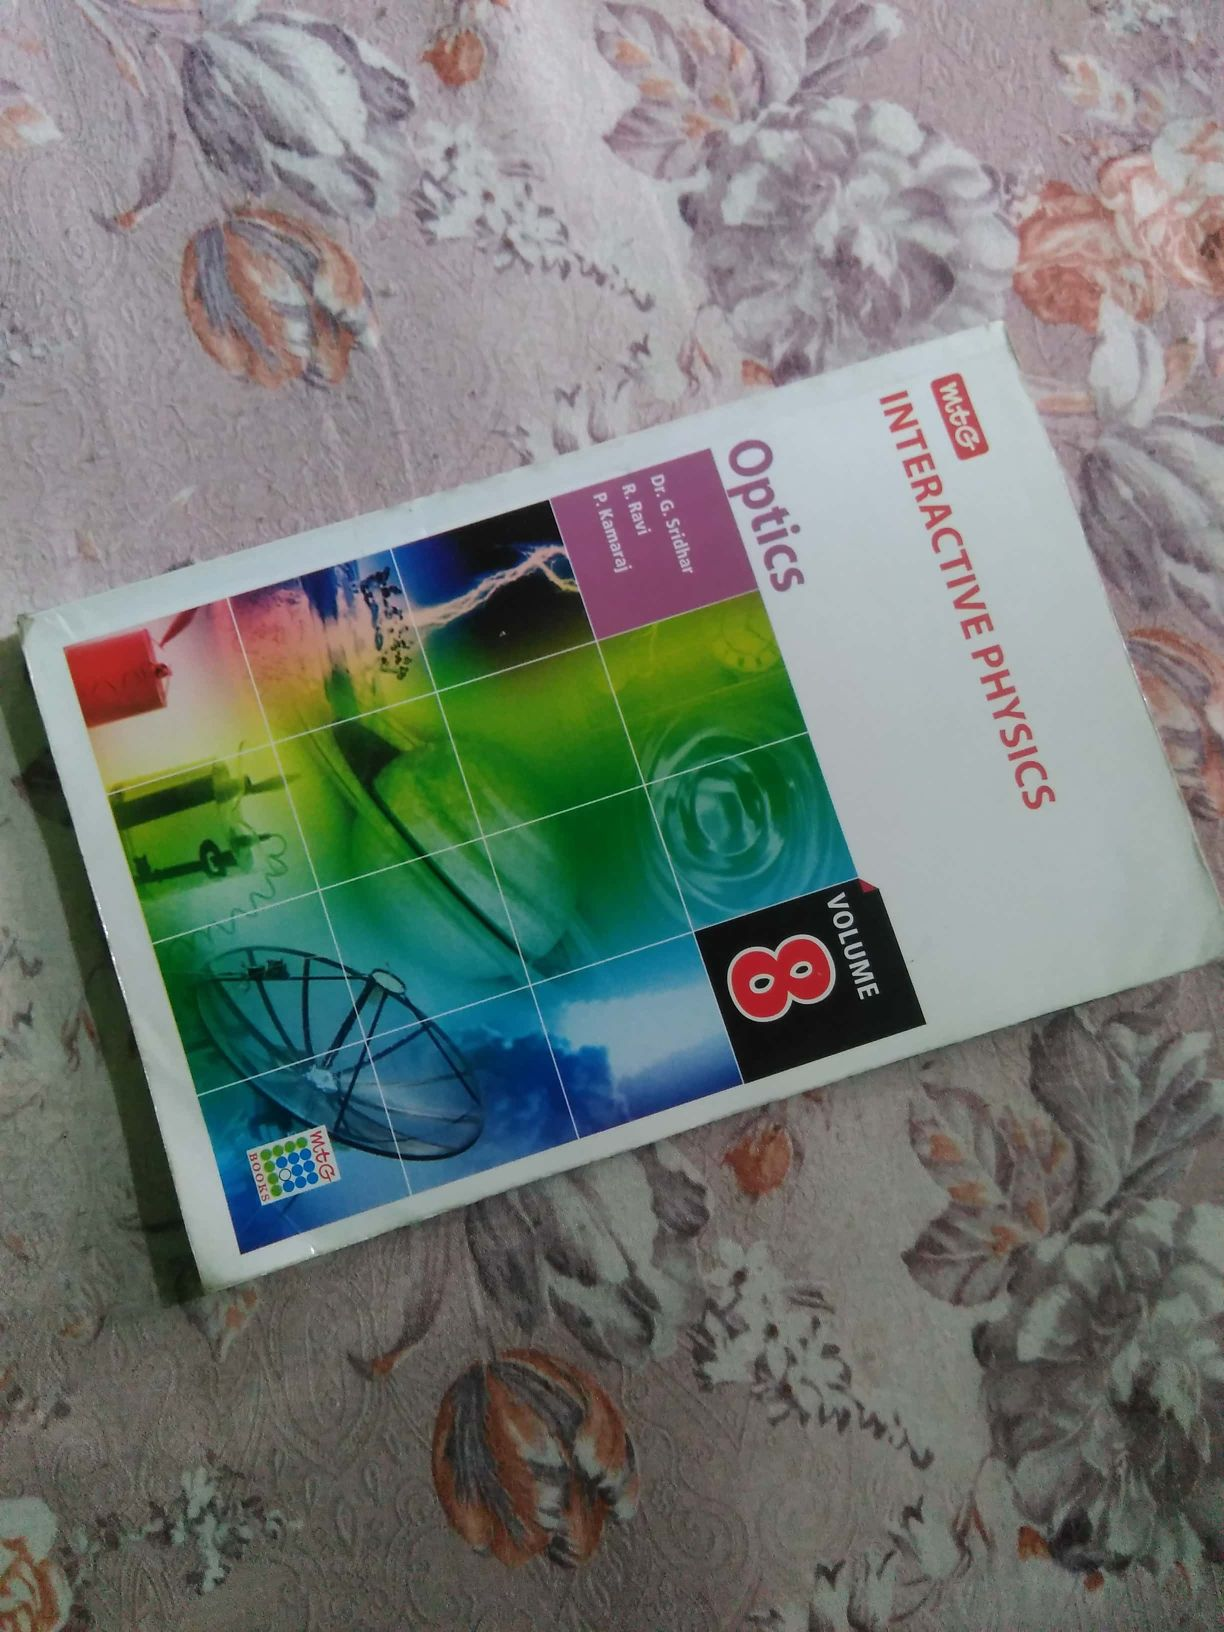optics: (37, 326, 1224, 1288)
